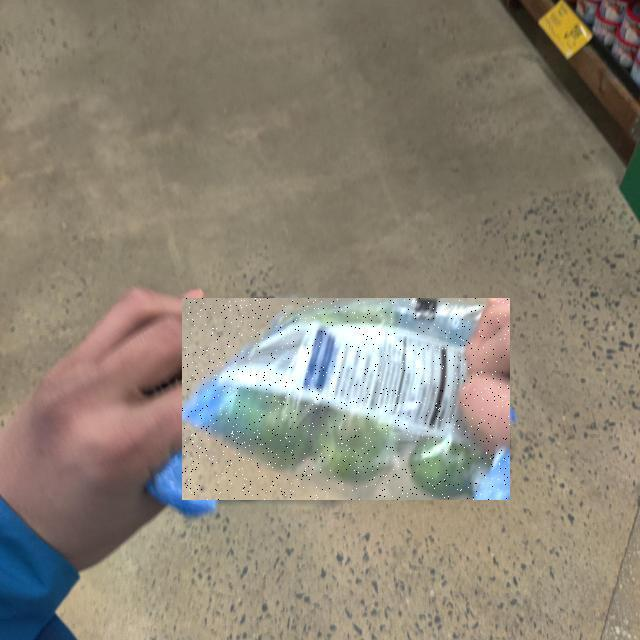Brussel Sprouts: (182, 298, 510, 500)
